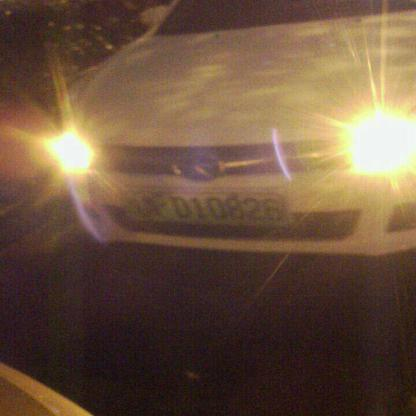lp: (124, 190, 288, 227)
